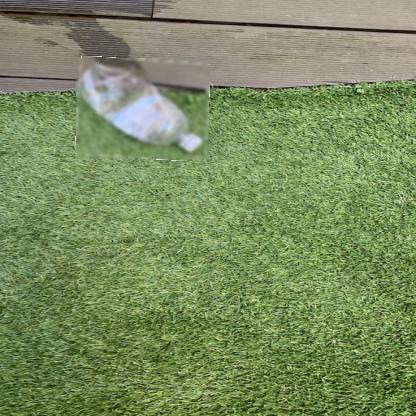plastic-bottles: (76, 58, 210, 160)
